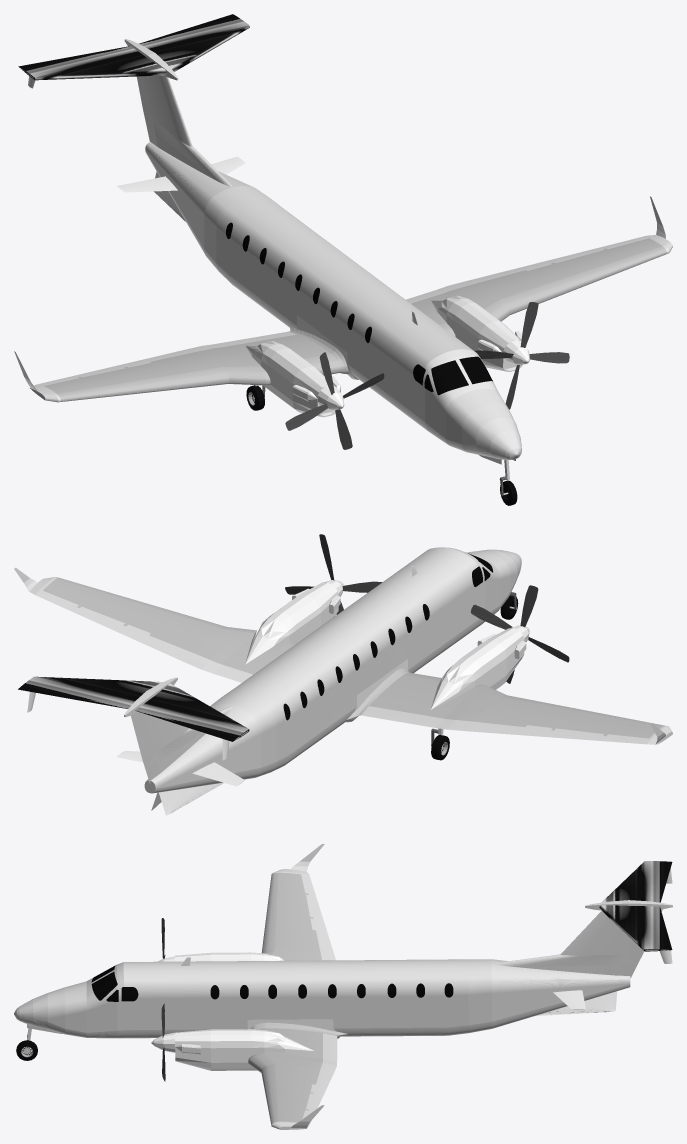
File: Beech 1900D.glb
3 views of the same model, one above another, from view 1: azimuth 30°, elevation 25°; view 2: azimuth 150°, elevation 25°; view 3: azimuth 270°, elevation 25° (orthographic). The views are drawn at different scales.
Parts seen in each view (by area): view 1: C-Component#54, _C-Component#38 (Loose Mesh).001, _C-Component#38 (Loose Mesh), _C-Component#45 (Loose Mesh).001, _C-Component#45 (Loose Mesh), C-Component#37, C-Component#20, C-Component#37.001, C-Component#35, C-Component#35.001, C-Component#18, C-Component#7 (+1 smaller); view 2: C-Component#54, _C-Component#38 (Loose Mesh).001, _C-Component#38 (Loose Mesh), _C-Component#45 (Loose Mesh).001, _C-Component#45 (Loose Mesh), C-Component#37, C-Component#37.001, C-Component#18, C-Component#35.001, C-Component#35, C-Component#20, C-Component#47 (+10 smaller); view 3: C-Component#54, _C-Component#38 (Loose Mesh), _C-Component#45 (Loose Mesh), _C-Component#38 (Loose Mesh).001, C-Component#20, C-Component#11, C-Component#37.001, C-Component#6, C-Component#37, C-Component#18, _C-Component#45 (Loose Mesh).001, C-Component#53 (+7 smaller).
Boxes of the visible parts, left/top/right/bottom form: C-Component#54: left=145, top=142, right=519, bottom=458; _C-Component#38 (Loose Mesh).001: left=44, top=326, right=348, bottom=401; _C-Component#38 (Loose Mesh): left=411, top=238, right=666, bottom=336; _C-Component#45 (Loose Mesh).001: left=246, top=341, right=340, bottom=417; _C-Component#45 (Loose Mesh): left=431, top=295, right=526, bottom=371; C-Component#37: left=28, top=46, right=166, bottom=80; C-Component#20: left=148, top=75, right=194, bottom=167; C-Component#37.001: left=139, top=20, right=249, bottom=71; C-Component#35: left=18, top=48, right=139, bottom=74; C-Component#35.001: left=142, top=14, right=242, bottom=51; C-Component#18: left=137, top=76, right=167, bottom=150; C-Component#7: left=226, top=222, right=371, bottom=342; C-Component#54: left=144, top=547, right=520, bottom=793; _C-Component#38 (Loose Mesh).001: left=347, top=668, right=664, bottom=738; _C-Component#38 (Loose Mesh): left=43, top=577, right=297, bottom=674; _C-Component#45 (Loose Mesh).001: left=431, top=628, right=526, bottom=709; _C-Component#45 (Loose Mesh): left=245, top=582, right=340, bottom=664; C-Component#37: left=135, top=683, right=249, bottom=735; C-Component#37.001: left=28, top=676, right=162, bottom=708; C-Component#18: left=131, top=712, right=170, bottom=776; C-Component#35.001: left=18, top=681, right=138, bottom=706; C-Component#35: left=142, top=700, right=242, bottom=741; C-Component#20: left=131, top=715, right=199, bottom=783; C-Component#47: left=29, top=588, right=150, bottom=639; C-Component#54: left=33, top=959, right=630, bottom=1038; _C-Component#38 (Loose Mesh): left=248, top=1022, right=347, bottom=1123; _C-Component#45 (Loose Mesh): left=175, top=1029, right=313, bottom=1070; _C-Component#38 (Loose Mesh).001: left=261, top=872, right=321, bottom=960; C-Component#20: left=553, top=909, right=662, bottom=978; C-Component#11: left=144, top=977, right=170, bottom=1031; C-Component#37.001: left=599, top=905, right=660, bottom=951; C-Component#6: left=210, top=983, right=453, bottom=999; C-Component#37: left=602, top=861, right=655, bottom=902; C-Component#18: left=598, top=910, right=662, bottom=974; _C-Component#45 (Loose Mesh).001: left=175, top=952, right=284, bottom=961; C-Component#53: left=534, top=991, right=617, bottom=1016.
Size of the model in its own units: 16.36 by 4.64 by 17.45.
Materials: 12 (1 with a texture image).
